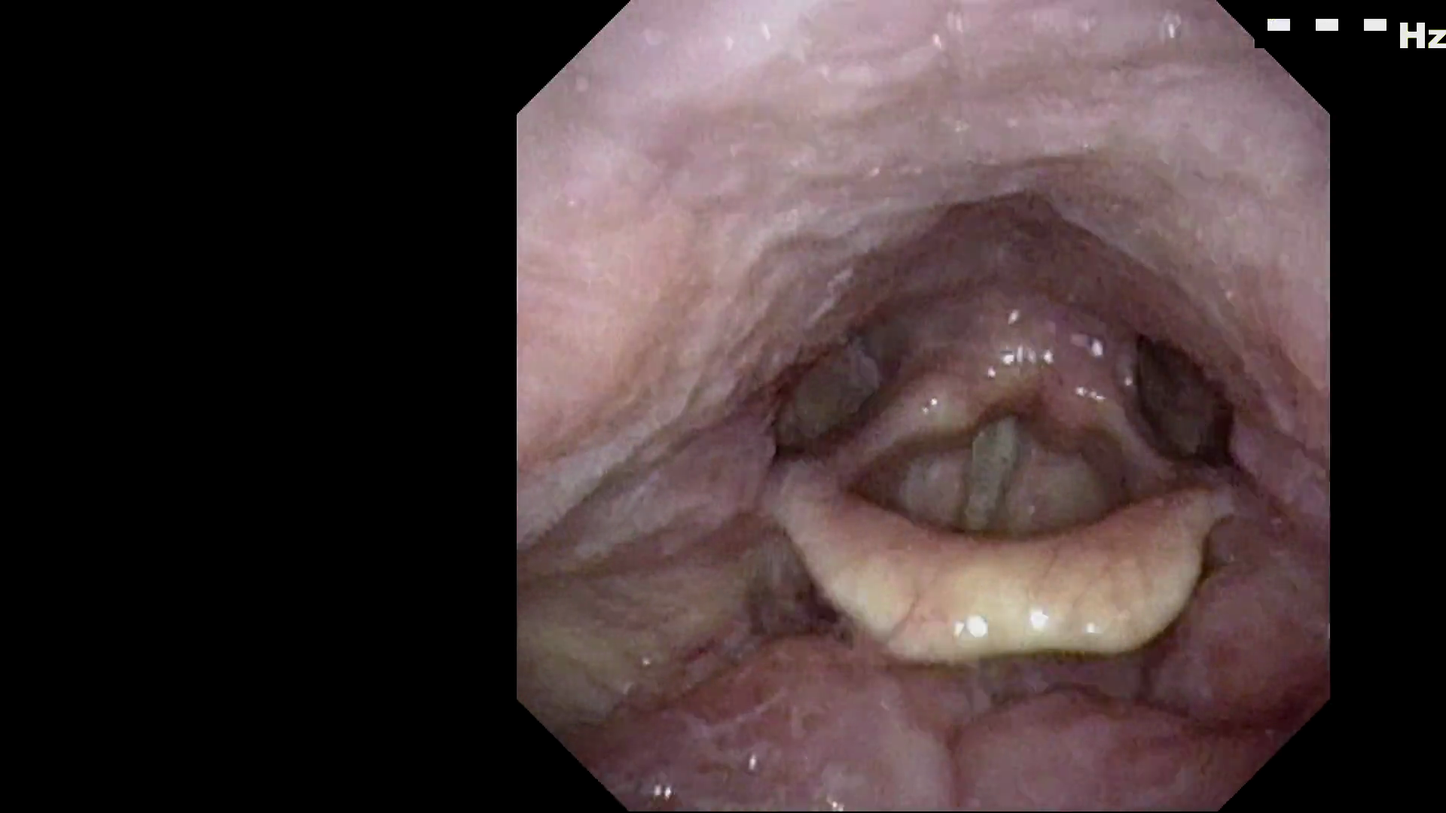epiglottis: (726, 447, 1261, 689)
trachea: (927, 382, 1053, 529)
